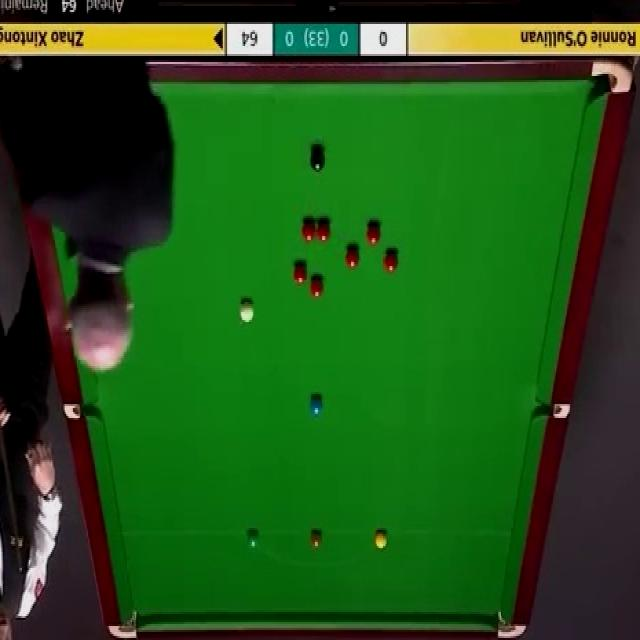black-ball: (309, 144, 325, 174)
blue-ball: (308, 397, 324, 418)
brown-ball: (310, 530, 323, 550)
green-ball: (247, 528, 260, 547)
red-ball: (382, 248, 400, 275), (343, 244, 360, 268), (308, 273, 325, 297), (291, 262, 307, 287), (367, 224, 382, 247), (317, 221, 331, 241), (302, 222, 315, 241)
white-ball: (240, 297, 255, 323)
yellow-ball: (375, 530, 389, 551)
